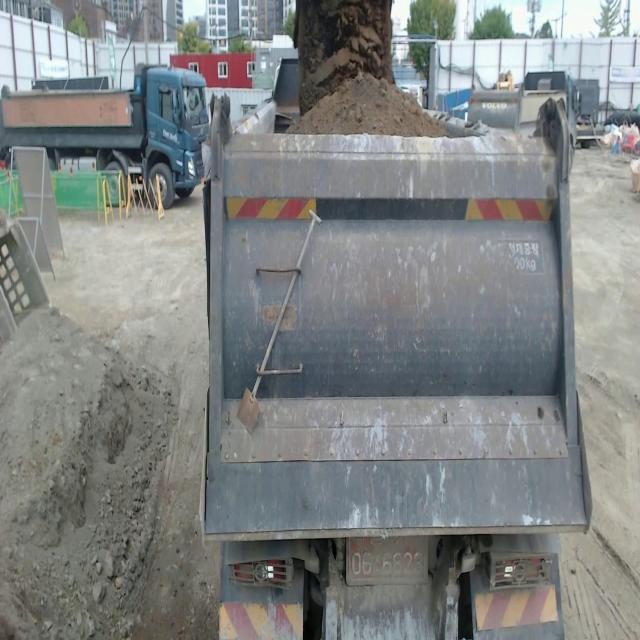red-sand: (0, 195, 219, 639), (562, 151, 640, 639), (286, 0, 449, 137)
